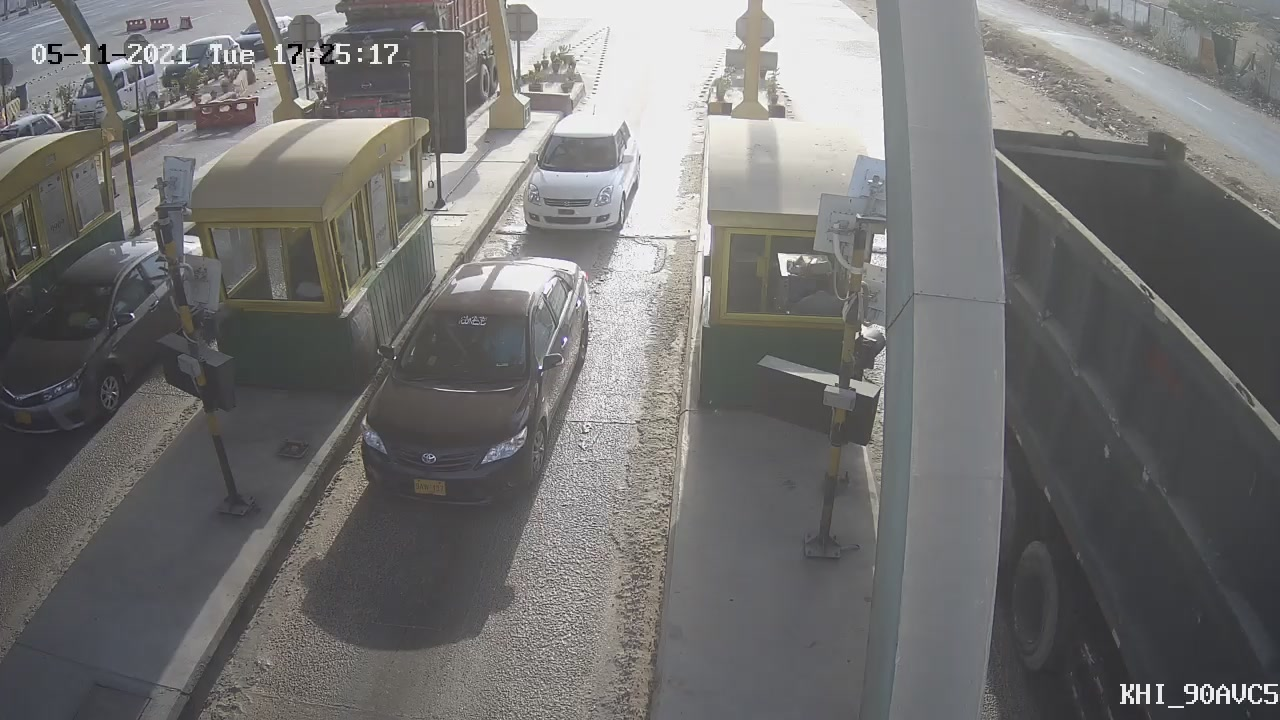F1: (334, 235, 605, 526), (508, 98, 657, 255)
